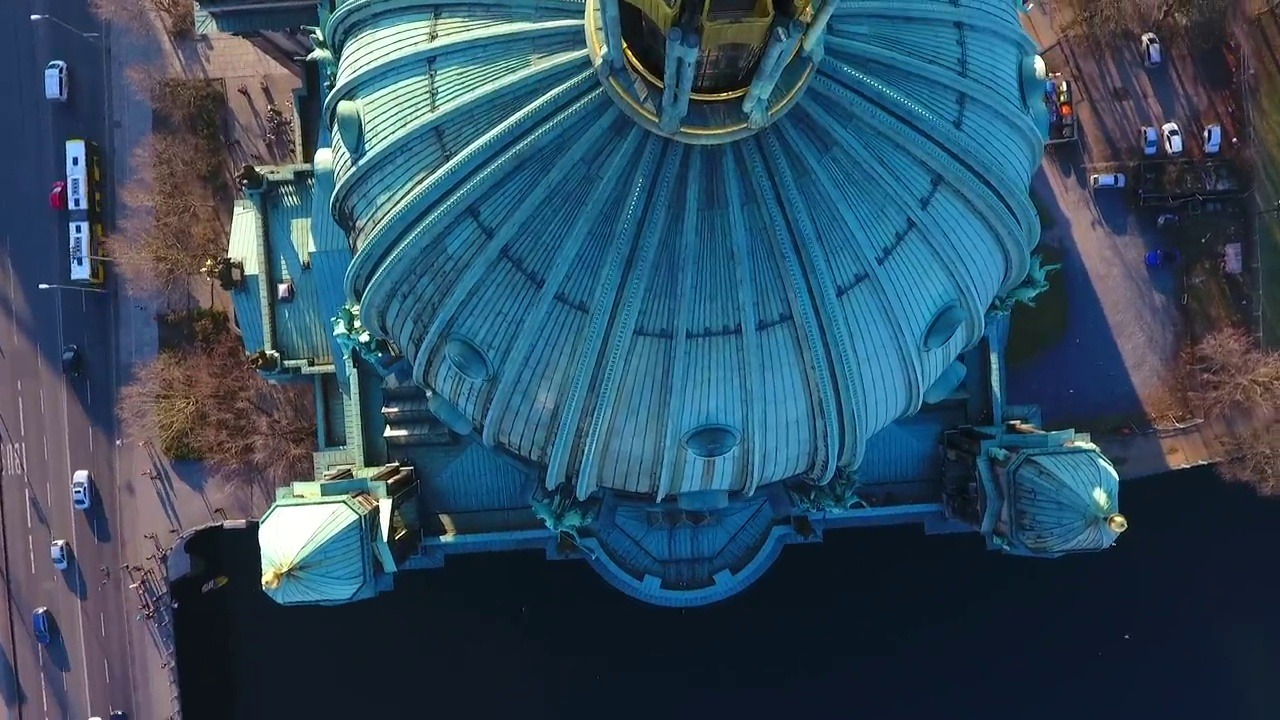bus: (61, 132, 105, 219), (64, 216, 112, 289)
car: (1138, 25, 1167, 75), (69, 466, 98, 514), (1085, 167, 1133, 193), (30, 605, 57, 650), (1156, 116, 1186, 155), (48, 536, 72, 575), (1136, 121, 1161, 158)
van: (44, 54, 73, 104)
